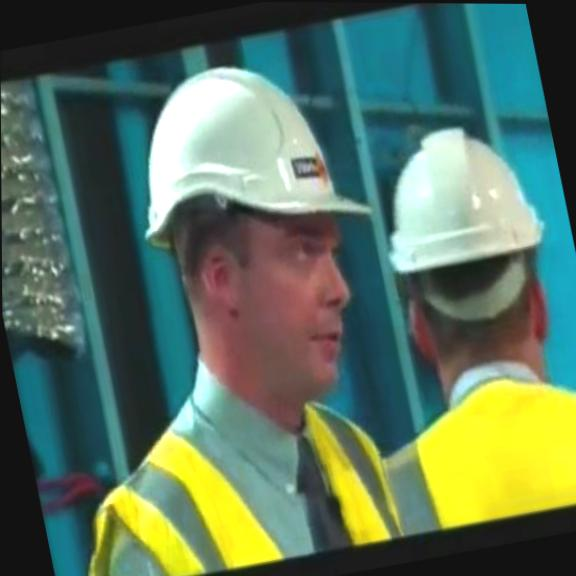safety_vest: (54, 383, 405, 576), (367, 356, 576, 538)
